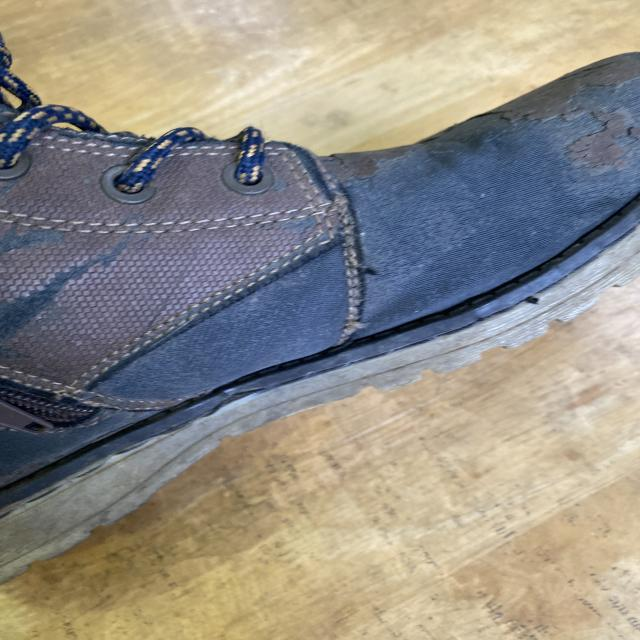broken: (338, 246, 398, 292), (322, 309, 378, 333)
